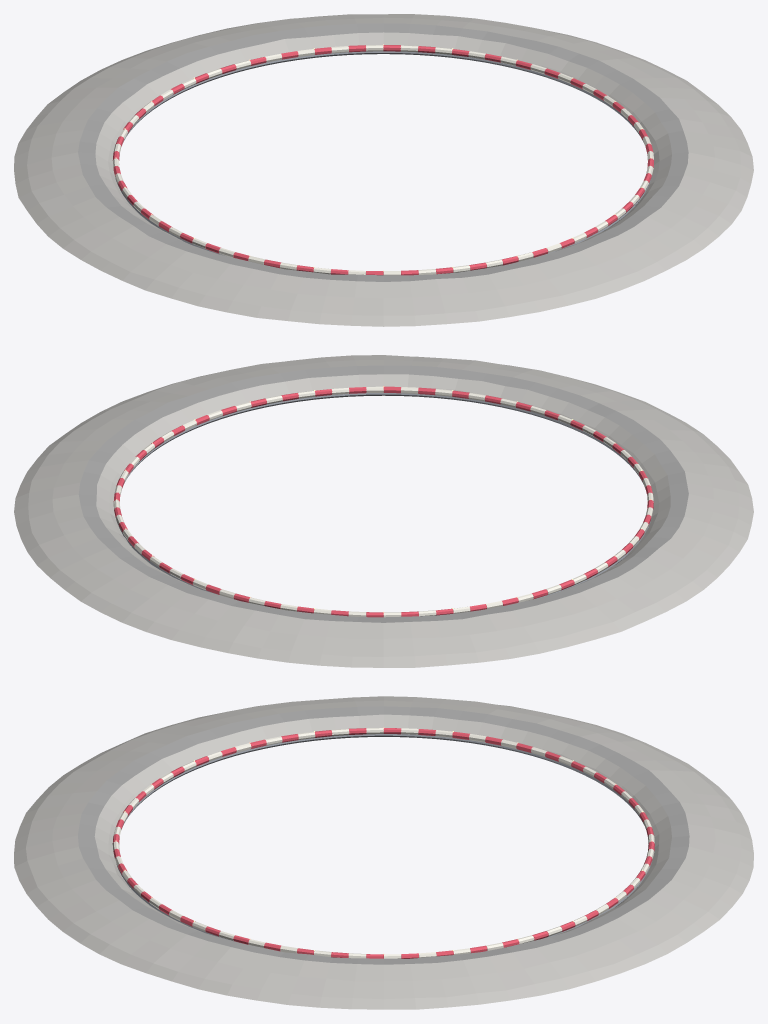
File: arena_rim.glb
3 views of the same model, one above another, from view 1: azimuth 30°, elevation 25°; view 2: azimuth 150°, elevation 25°; view 3: azimuth 270°, elevation 25° (orthographic).
Visible parts, largest first — view 1: arena_rim; view 2: arena_rim; view 3: arena_rim.
Boxes of the visible parts, left/top/right/bottom form: arena_rim: left=14, top=14, right=753, bottom=326; arena_rim: left=14, top=355, right=753, bottom=667; arena_rim: left=14, top=696, right=753, bottom=1009.
Size of the model in its own units: 172 by 4.72 by 172.
